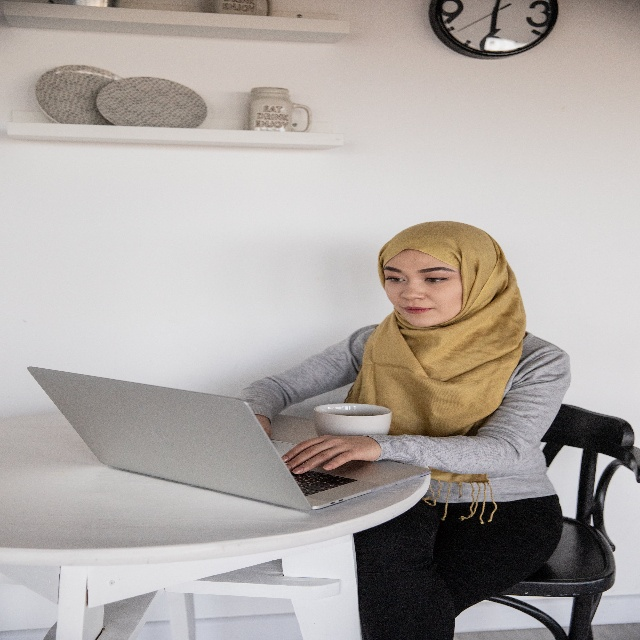Sin_guantes: (281, 434, 381, 476), (254, 412, 271, 439)
